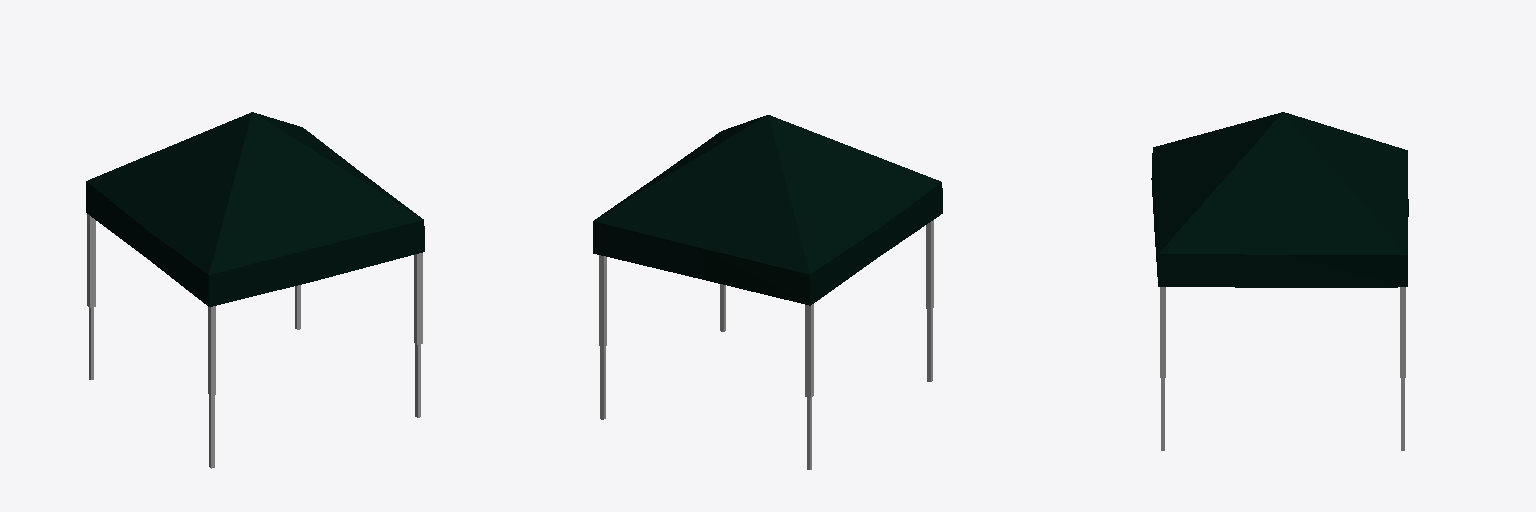
Rendered from OutdoorTent.obj.
3 renders of one model, left to right at view 1: azimuth 30°, elevation 25°; view 2: azimuth 150°, elevation 25°; view 3: azimuth 270°, elevation 25°, orthographic.
Parts seen in each view (by area): view 1: pPlane4, pCube14; view 2: pPlane4, pCube14; view 3: pPlane4, pCube14.
Boxes of the visible parts, <box> form: pPlane4: <box>86,112,424,306</box>; pCube14: <box>87,214,422,468</box>; pPlane4: <box>593,115,942,305</box>; pCube14: <box>599,220,933,469</box>; pPlane4: <box>1151,112,1408,287</box>; pCube14: <box>1160,287,1405,450</box>.
Bounding box in the file's own units: 12.78 × 15.77 × 12.83.